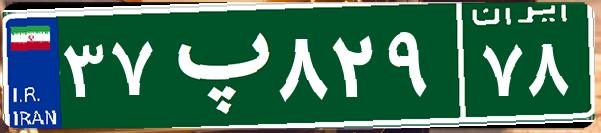2: (330, 28, 385, 110)
3: (57, 26, 110, 107)
7: (475, 38, 525, 113), (110, 28, 158, 105)
8: (273, 28, 330, 110), (525, 38, 570, 115)
9: (385, 28, 445, 110)
پ: (158, 15, 273, 115)
